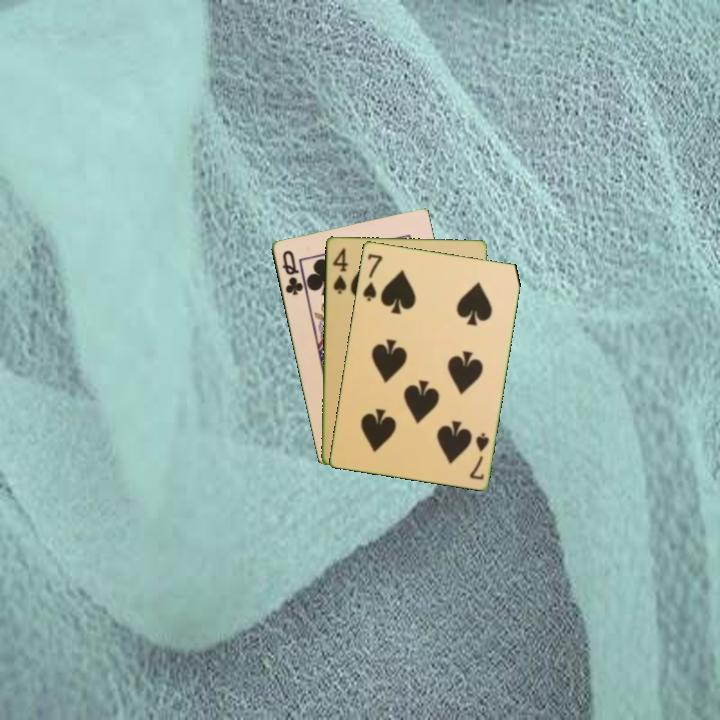4s: (329, 244, 351, 297)
7s: (359, 250, 385, 304), (466, 429, 492, 482)
Qc: (278, 246, 306, 298)
